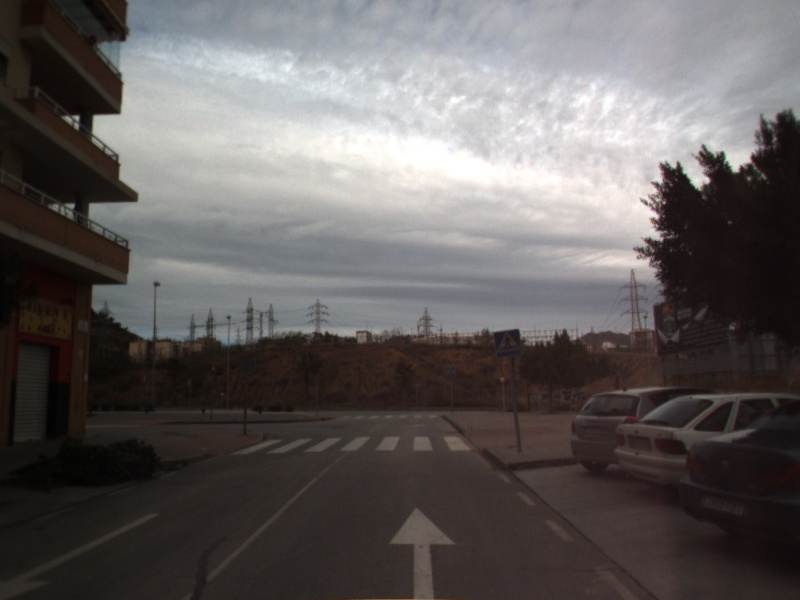STRAIGHT: (386, 505, 458, 600)
